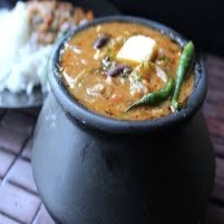sabzi: (56, 16, 196, 122)
